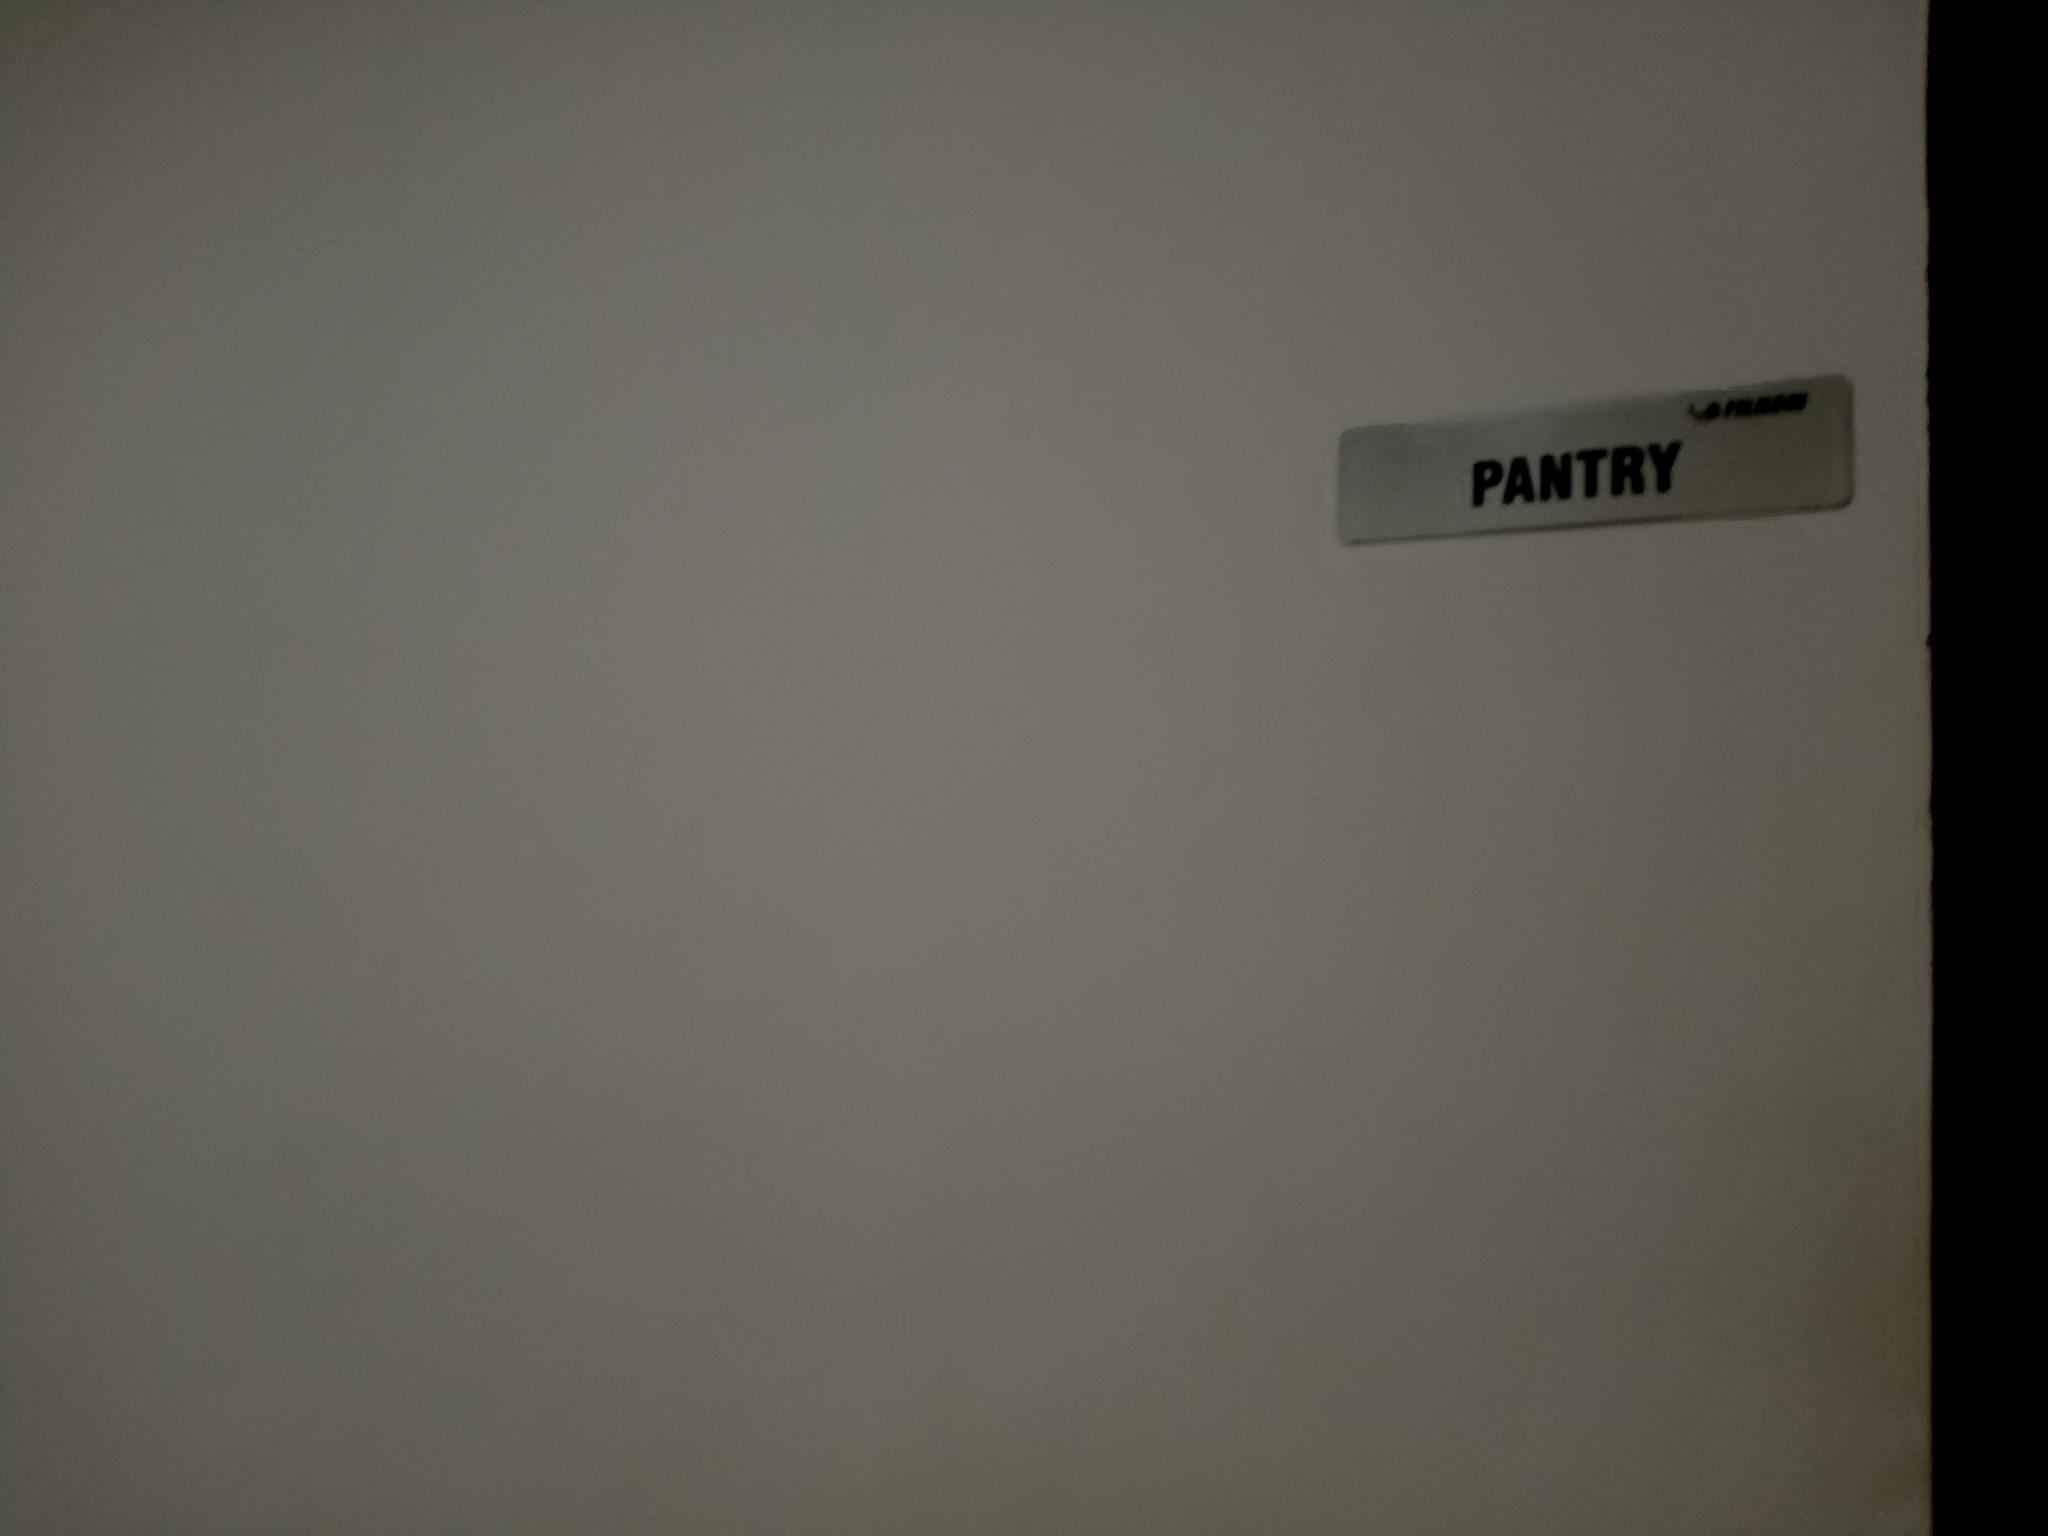plate: (1335, 373, 1858, 545)
